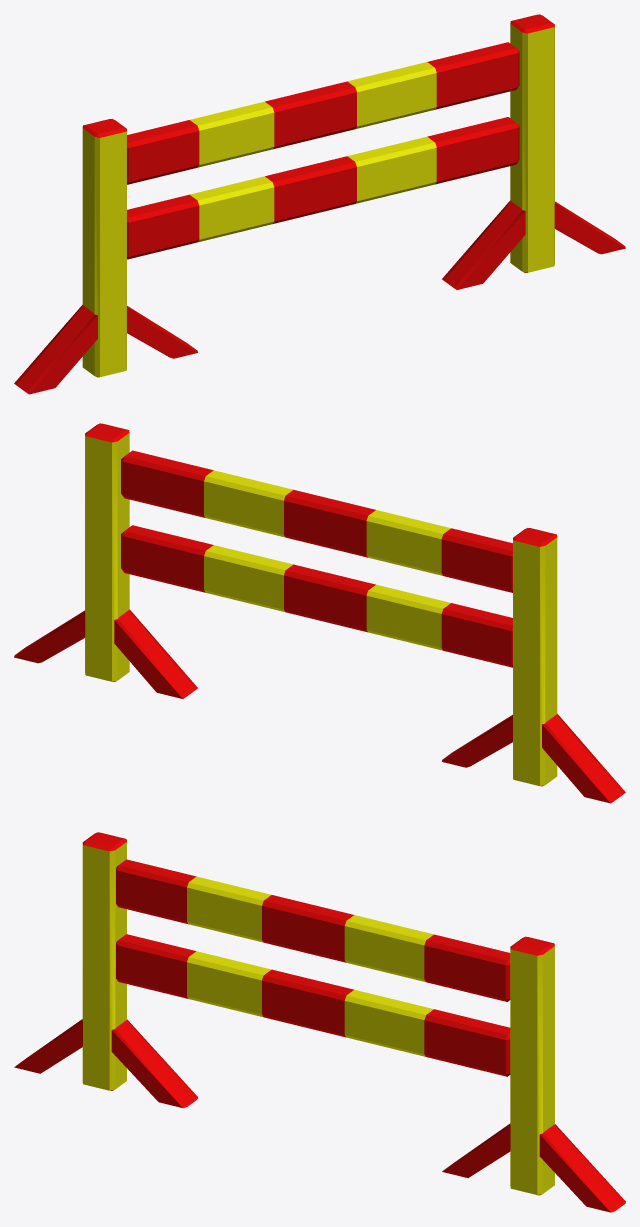
The model's file is OBSTACLE 04.fbx.
3 views of the same model, one above another, from view 1: azimuth 30°, elevation 25°; view 2: azimuth 150°, elevation 25°; view 3: azimuth 330°, elevation 25° (orthographic).
Visible parts, largest first — view 1: pCube8, pCube5, pCube6, pCube7; view 2: pCube8, pCube5, pCube6, pCube7; view 3: pCube8, pCube5, pCube7, pCube6.
Boxes of the visible parts, x1,y1,x2,y2 form: pCube8: (127,117,519,259); pCube5: (127,42,519,184); pCube6: (14,119,197,394); pCube7: (442,14,625,289); pCube8: (121,525,512,667); pCube5: (121,450,512,592); pCube6: (442,528,625,803); pCube7: (14,423,197,698); pCube8: (116,934,510,1076); pCube5: (116,859,510,1001); pCube7: (442,936,625,1212); pCube6: (14,832,197,1108).
Size of the model in its own units: 231 by 89.59 by 11.39.
